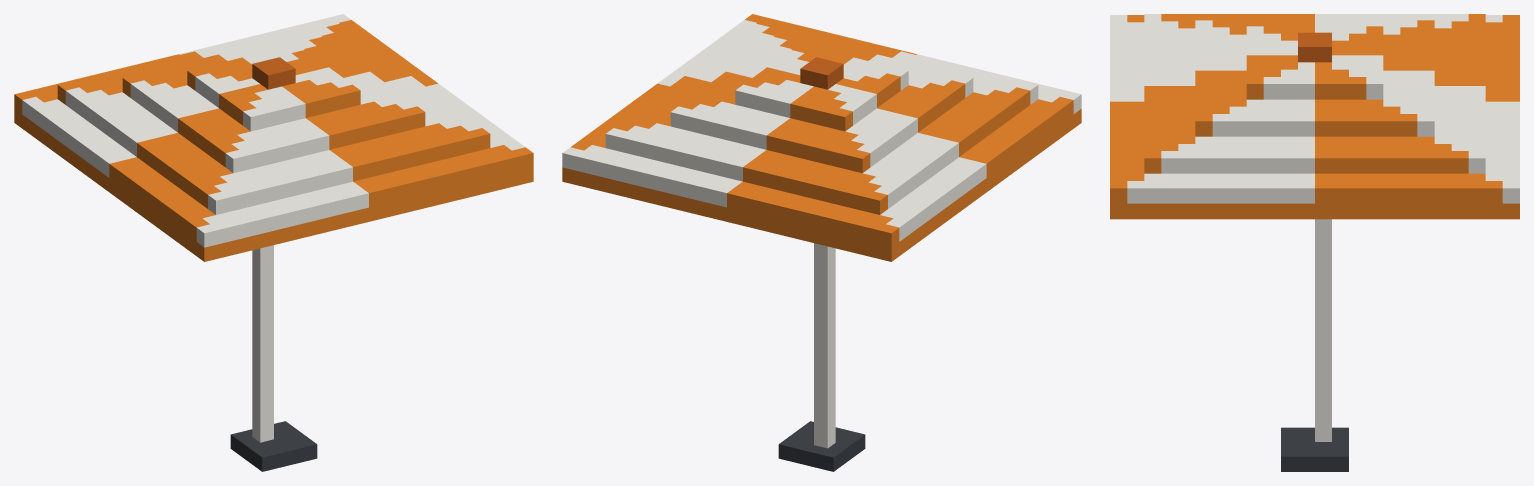
The model's file is umbrella.glb.
3 views of the same model, side by side, from view 1: azimuth 30°, elevation 25°; view 2: azimuth 150°, elevation 25°; view 3: azimuth 270°, elevation 25° (orthographic). The views are drawn at different scales.
Visible parts, largest first — view 1: canopy; view 2: canopy; view 3: canopy.
Boxes of the visible parts, box(x1,y1,x2,y2) form: canopy: box(14, 14, 533, 471); canopy: box(562, 14, 1081, 471); canopy: box(1110, 14, 1519, 471).
Bounding box in the file's own units: 2.4 × 2.7 × 2.4.
